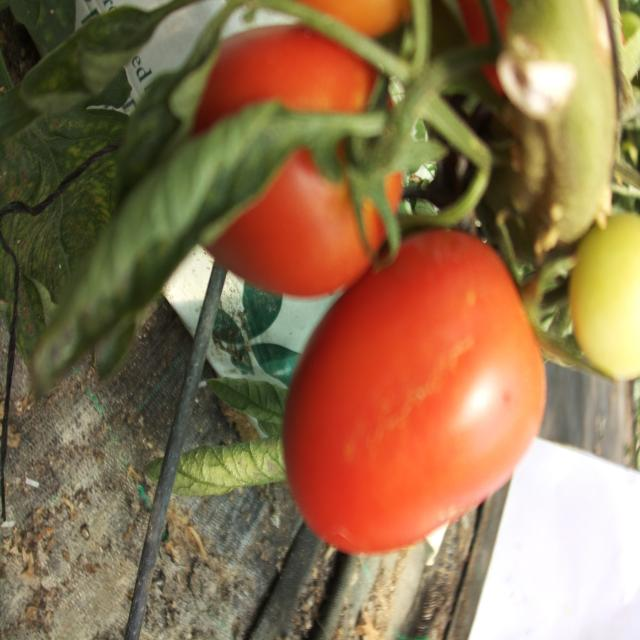kirmizi: (163, 19, 549, 554)
